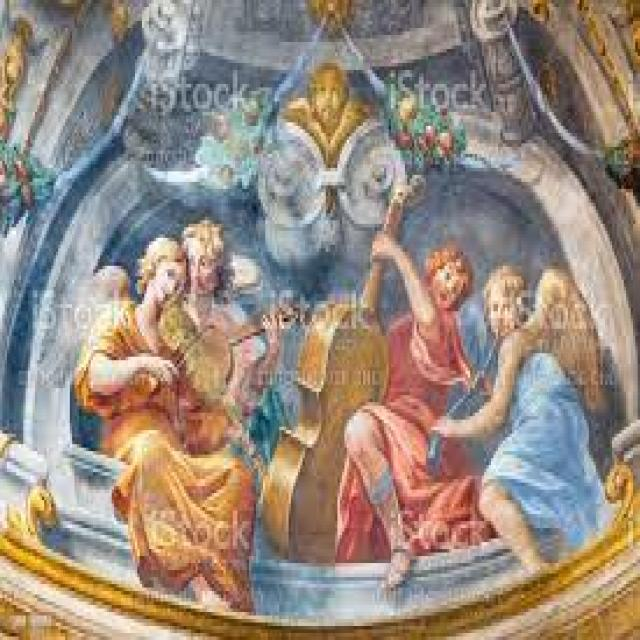angel: (59, 214, 266, 597)
